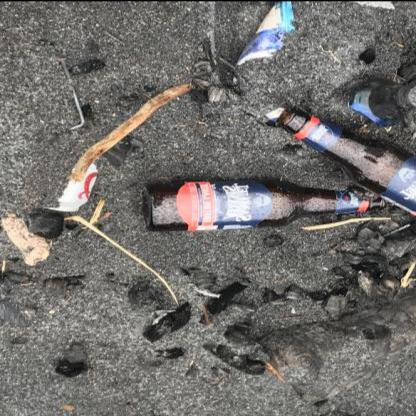Bottle cap: (275, 105, 415, 215), (142, 178, 386, 230), (348, 76, 415, 127)
Can: (43, 161, 99, 210)
Other litter: (57, 57, 85, 128)
Unlabeled litter: (235, 1, 296, 121)
